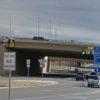Bridge: (6, 21, 88, 68)
